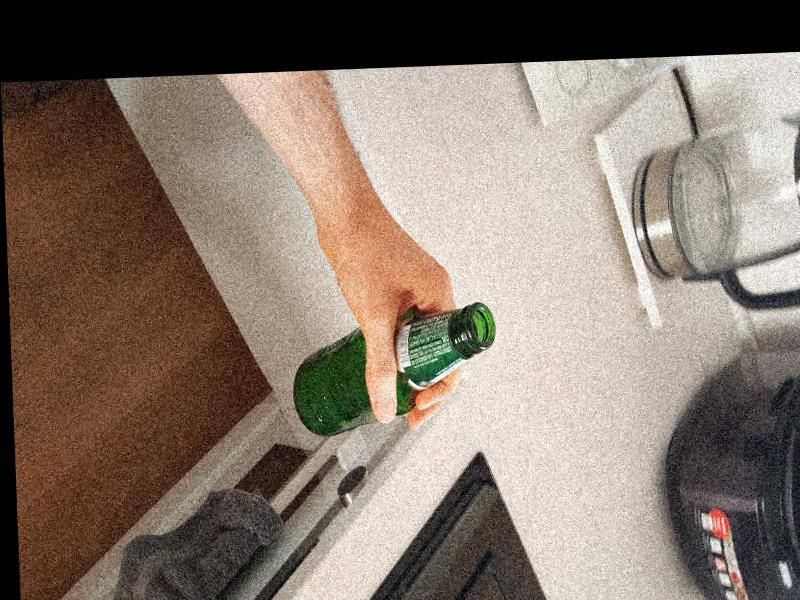Beer: (288, 301, 498, 438)
